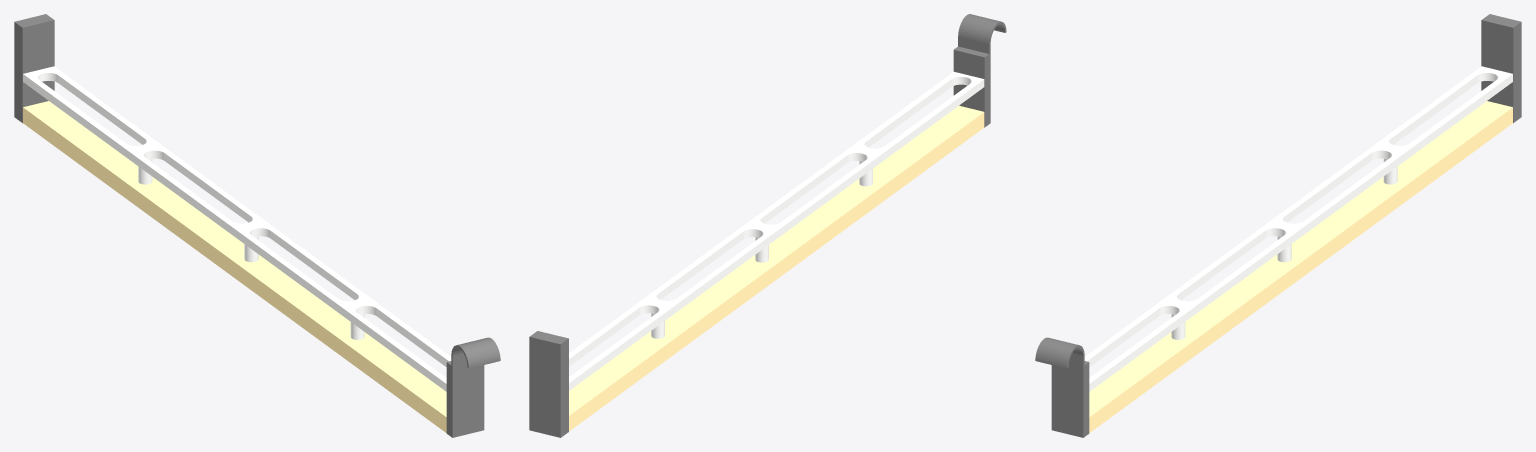
Rendered from RGT_CAR_4R100.gltf.
The picture shows the model from 3 angles, left to right: view 1: azimuth 30°, elevation 25°; view 2: azimuth 150°, elevation 25°; view 3: azimuth 330°, elevation 25°; orthographic projection.
Visible parts, largest first — view 1: Frm43, Poly_Geom_Data, Frm27; view 2: Frm43, Poly_Geom_Data, Frm27; view 3: Frm43, Poly_Geom_Data, Frm27.
Boxes of the visible parts, <box> form: Frm43: <box>23,101,446,432</box>; Poly_Geom_Data: <box>23,66,451,391</box>; Frm27: <box>14,14,500,437</box>; Frm43: <box>569,105,984,431</box>; Poly_Geom_Data: <box>569,72,984,390</box>; Frm27: <box>529,14,1006,437</box>; Frm43: <box>1089,101,1512,432</box>; Poly_Geom_Data: <box>1084,66,1512,391</box>; Frm27: <box>1035,14,1521,437</box>.
Size of the model in its own units: 21 by 60.9 by 518.
